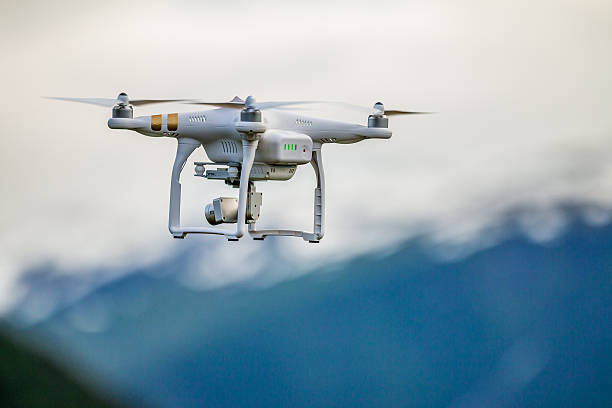Drone: (34, 89, 434, 249)
